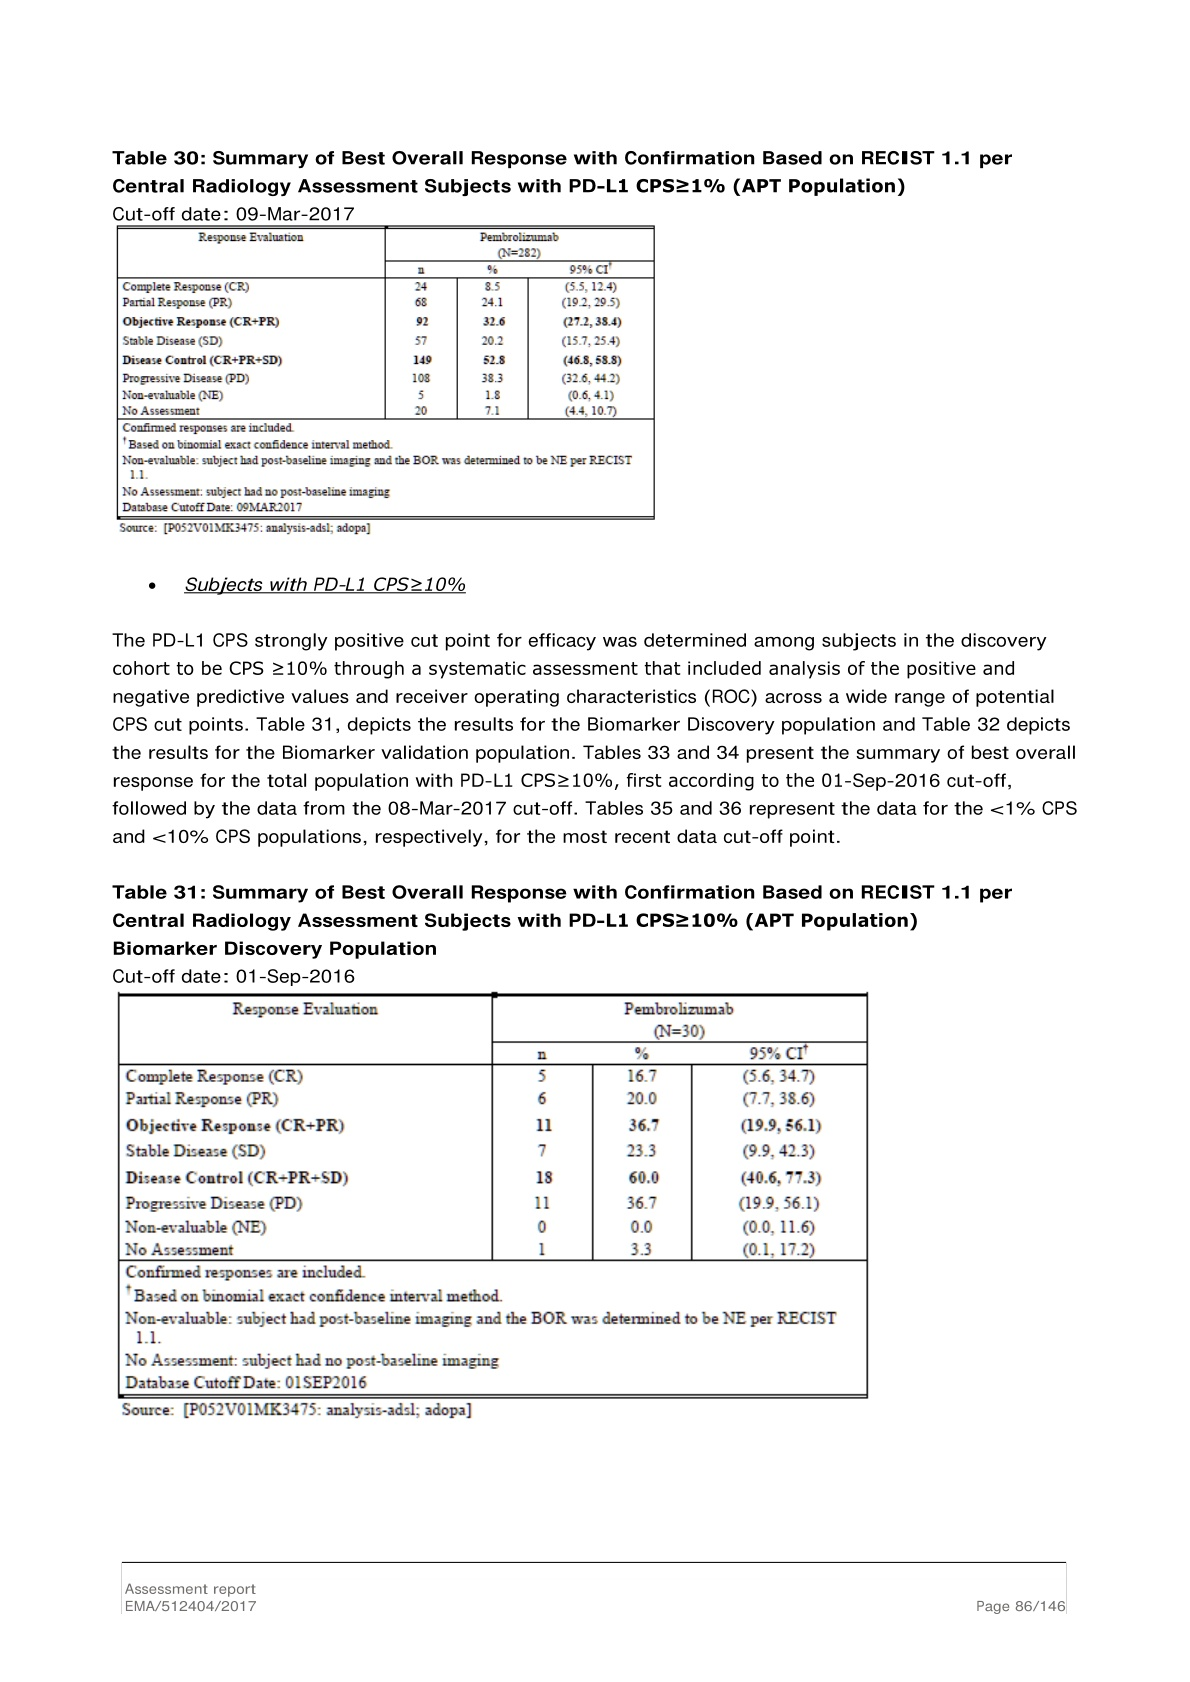partial_lined_merged_cells: (117, 992, 869, 1400), (115, 225, 657, 520)
